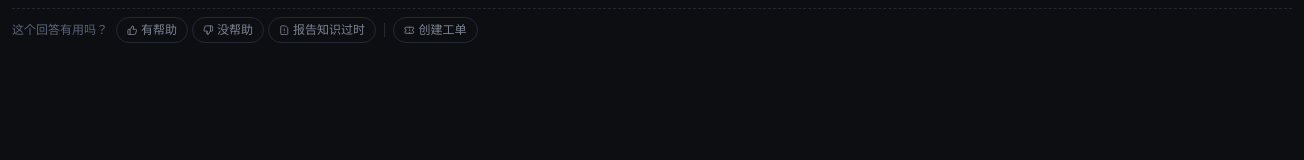
Test case: FeedbackRow › outdated expands the comment box; a note rides body.comment and the box collapses with 已附说明
The image size is (1304, 160).
Click the button with test id "feedback-outdated" at (322, 30), box [268,17,376,43]
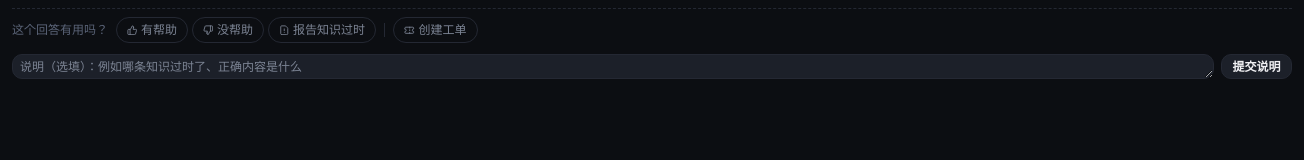
Check: the element with test id "feedback-comment-box" is shown, box [12,54,1292,79]
Type "差旅补贴政策已于 2026-06 调整" into the text box with test id "feedback-comment-input" at (613, 66), box [12,54,1214,79]
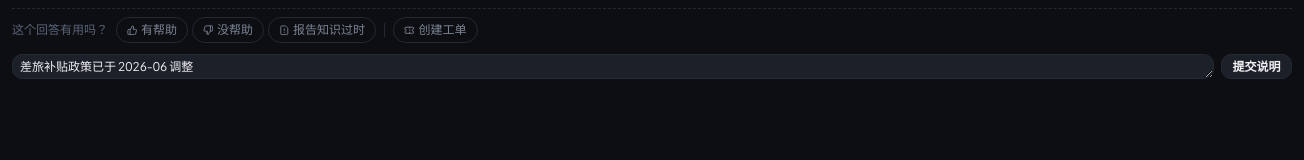
Click the button with test id "feedback-comment-submit" at (1256, 67), box [1221,54,1292,79]
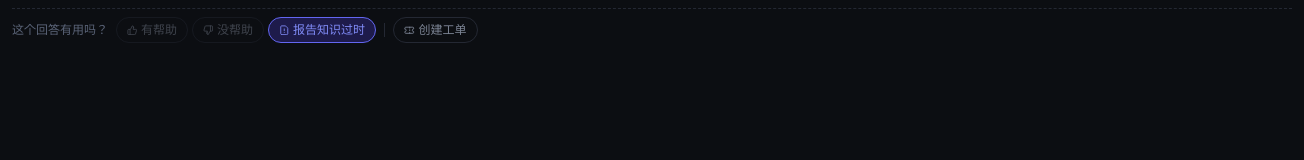
Check: the element with test id "feedback-comment-box" is gone
